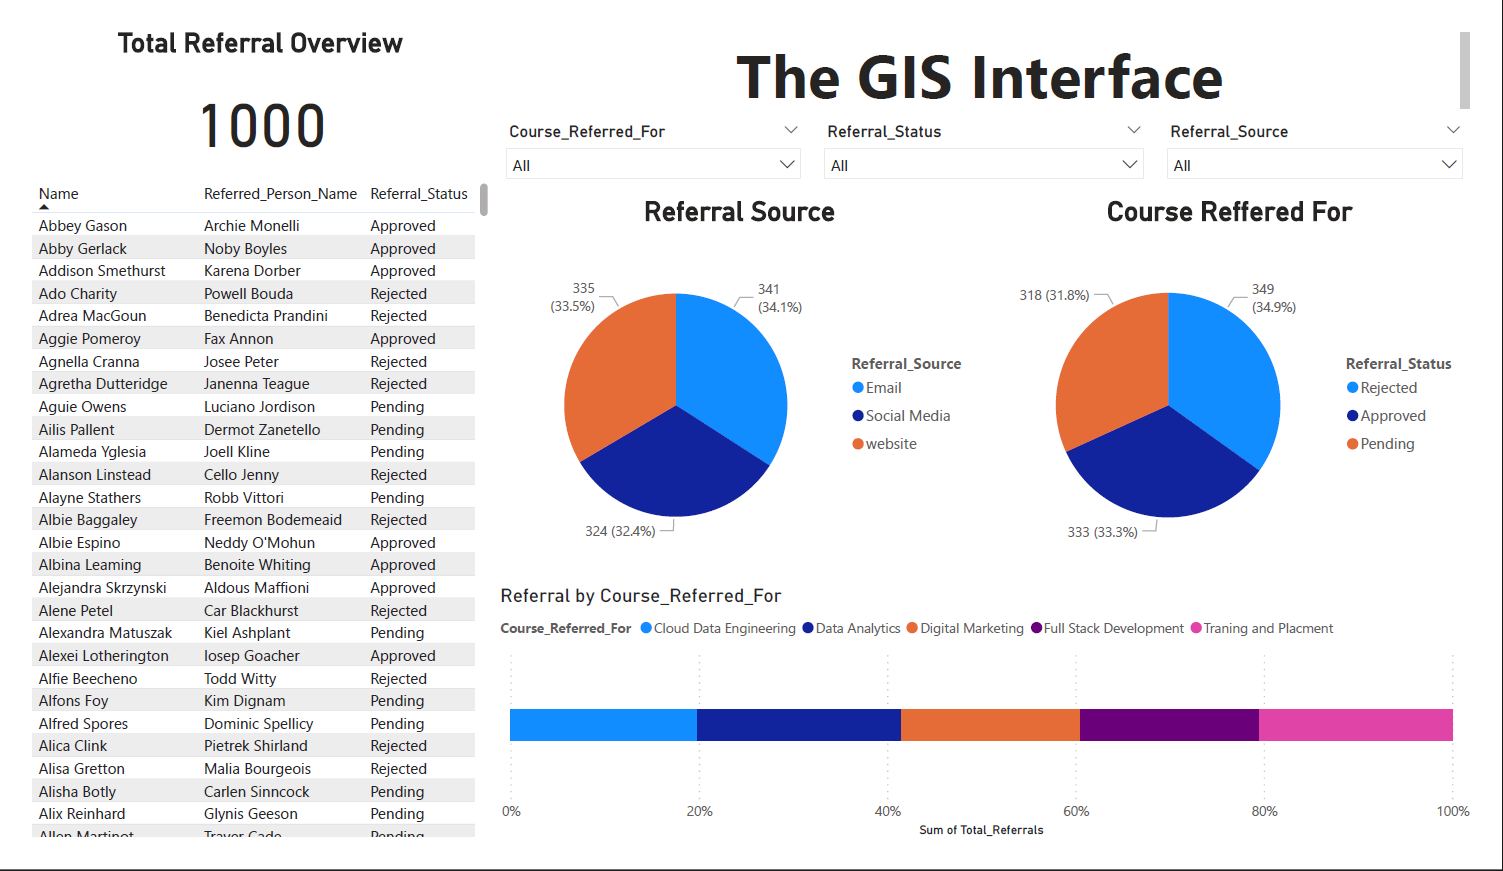

This screenshot's page, from the dashboard's own definition file:
{"tool":"powerbi","page":{"name":"The GIS Interface","canvas":[1280,720],"ordinal":0},"visuals":[{"type":"card","title":"Total Referral Overview","fields":{"Values":["GS_DATA.Email"]},"box":[0,0,414,132.5],"z":0},{"type":"tableEx","fields":{"Values":["GS_DATA.Name","GS_DATA.Referred_Person_Name","GS_DATA.Referral_Status"]},"box":[0,132.5,414,587.4],"z":1000},{"type":"pieChart","title":"Referral Source","fields":{"Y":["GS_DATA.Email"],"Series":["GS_DATA.Referral_Source"]},"box":[414,149,433.5,342.9],"z":2000},{"type":"pieChart","title":"Course Reffered For","fields":{"Category":["GS_DATA.Referral_Status"],"Y":["GS_DATA.Email"]},"box":[847.5,149,432.5,342.9],"z":3000},{"type":"textbox","box":[413.7,0,866.3,78.8],"z":4000},{"type":"slicer","fields":{"Values":["GS_DATA.Referral_Status"]},"box":[694.6,78.9,303,70.1],"z":5000},{"type":"slicer","fields":{"Values":["GS_DATA.Course_Referred_For"]},"box":[414,78.9,280.5,70.1],"z":6000},{"type":"slicer","fields":{"Values":["GS_DATA.Referral_Source"]},"box":[997.5,78.9,282.5,70.1],"z":7000},{"type":"hundredPercentStackedBarChart","title":"Referral by Course_Referred_For","fields":{"Series":["GS_DATA.Course_Referred_For"],"Y":["GS_DATA.Total_Referrals"]},"box":[414,491.9,866,227.9],"z":8000}]}

Visuals, with their boxes in screenshot pixels (x1, y1, x2, y2), scaled from the page's 1280x720 canvas onto the 1503x871 screenshot:
"Total Referral Overview" card: 0,0,486,160
tableEx - GS_DATA.Name x GS_DATA.Referred_Person_Name: 0,160,486,870
"Referral Source" pieChart: 486,180,995,595
"Course Reffered For" pieChart: 995,180,1502,595
textbox: 486,0,1502,95
slicer - GS_DATA.Referral_Status: 816,95,1171,180
slicer - GS_DATA.Course_Referred_For: 486,95,815,180
slicer - GS_DATA.Referral_Source: 1171,95,1502,180
"Referral by Course_Referred_For" hundredPercentStackedBarChart: 486,595,1502,870
